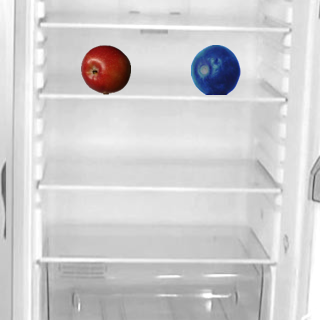Apple Braeburn: (80, 44, 130, 94)
Huckleberry: (190, 44, 240, 94)
